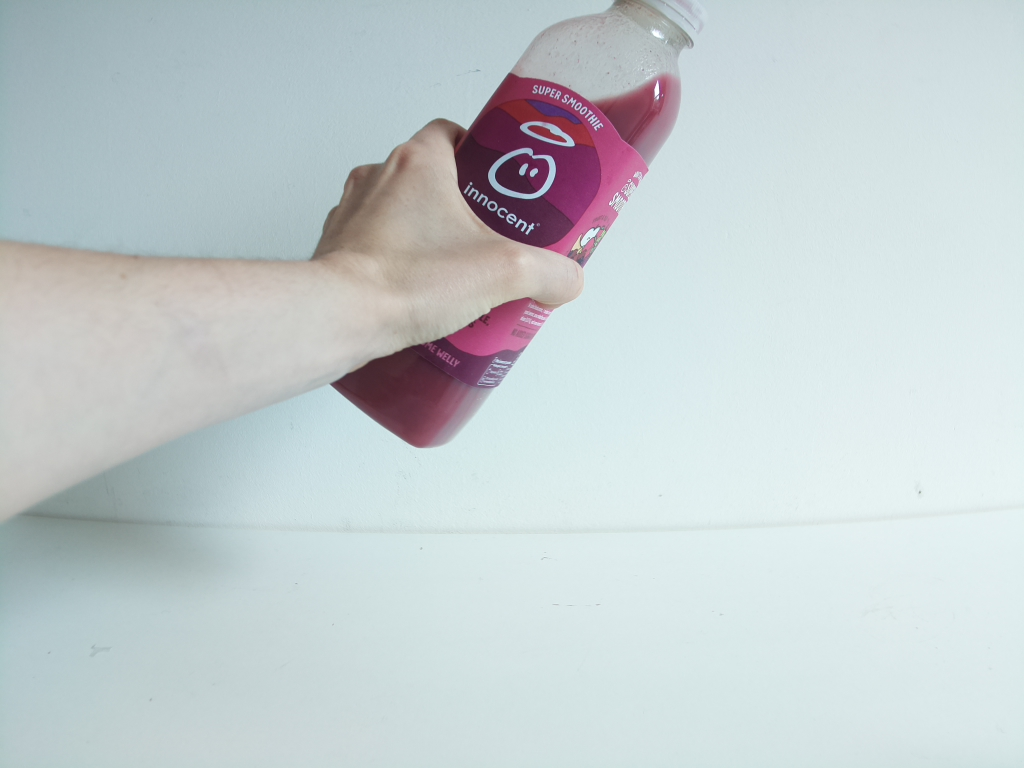juice: (331, 1, 708, 449)
